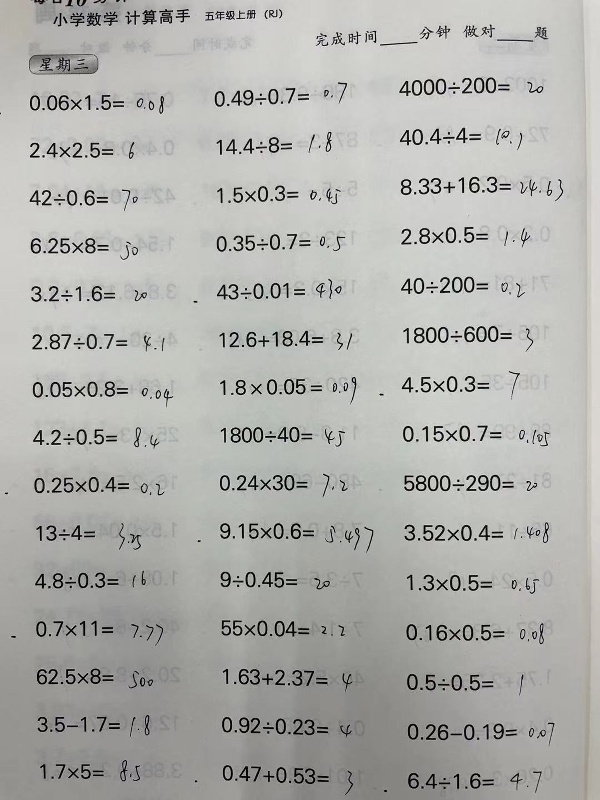equation: (214, 517, 376, 551), (216, 373, 360, 408), (217, 761, 356, 797), (398, 421, 553, 453), (395, 171, 566, 200), (29, 424, 162, 459), (398, 367, 523, 403), (403, 718, 558, 747), (400, 619, 549, 649), (400, 518, 553, 547), (31, 616, 163, 649), (398, 318, 537, 349), (27, 376, 175, 405), (215, 470, 351, 501), (402, 570, 542, 600), (28, 328, 168, 357), (394, 72, 544, 99), (396, 221, 533, 250), (209, 79, 349, 107), (403, 768, 544, 795), (395, 121, 525, 150), (217, 663, 355, 690), (24, 89, 167, 115), (212, 274, 344, 302), (35, 521, 150, 553), (215, 325, 355, 351), (32, 710, 152, 740), (27, 281, 151, 310), (28, 471, 166, 497), (216, 567, 335, 597), (395, 271, 527, 298), (212, 229, 348, 255), (25, 185, 139, 216), (401, 669, 527, 697), (399, 469, 540, 494), (216, 713, 354, 738), (211, 128, 334, 156), (215, 421, 347, 447), (26, 233, 144, 262), (212, 180, 343, 206), (32, 664, 154, 691), (33, 759, 149, 787), (216, 615, 347, 639), (25, 138, 141, 163), (30, 567, 148, 591)
